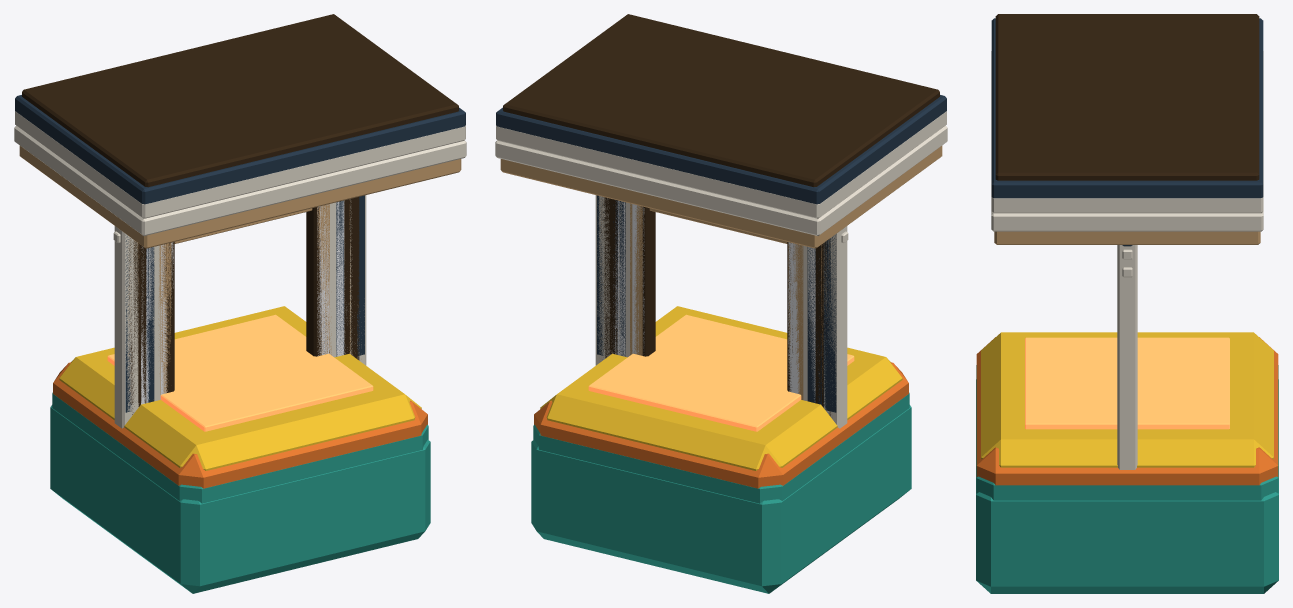
Rendered from flagship_props_028.glb.
3 renders of one model, left to right at view 1: azimuth 30°, elevation 25°; view 2: azimuth 150°, elevation 25°; view 3: azimuth 270°, elevation 25°, orthographic. The views are drawn at different scales.
Visible parts, largest first — view 1: Prop_BBIsle_Well_05, Prop_BBIsle_Well_06, Prop_BBIsle_Well_04, Prop_BBIsle_Well_01, Prop_BBIsle_Well_07, Prop_BBIsle_Well_00, Prop_BBIsle_Well_10, Prop_BBIsle_Well_03, Prop_BBIsle_Well_16, Prop_BBIsle_Well_08, Prop_BBIsle_Well_02, Prop_BBIsle_Well_14 (+3 smaller); view 2: Prop_BBIsle_Well_05, Prop_BBIsle_Well_06, Prop_BBIsle_Well_04, Prop_BBIsle_Well_01, Prop_BBIsle_Well_07, Prop_BBIsle_Well_02, Prop_BBIsle_Well_03, Prop_BBIsle_Well_10, Prop_BBIsle_Well_00, Prop_BBIsle_Well_16, Prop_BBIsle_Well_08, Prop_BBIsle_Well_14 (+2 smaller); view 3: Prop_BBIsle_Well_05, Prop_BBIsle_Well_06, Prop_BBIsle_Well_04, Prop_BBIsle_Well_01, Prop_BBIsle_Well_07.
Part boxes in pixels (bbox=[...]): Prop_BBIsle_Well_05: bbox=[22, 14, 458, 470]; Prop_BBIsle_Well_06: bbox=[14, 125, 466, 593]; Prop_BBIsle_Well_04: bbox=[15, 95, 465, 488]; Prop_BBIsle_Well_01: bbox=[15, 111, 465, 503]; Prop_BBIsle_Well_07: bbox=[19, 146, 461, 385]; Prop_BBIsle_Well_00: bbox=[133, 197, 356, 405]; Prop_BBIsle_Well_10: bbox=[162, 206, 329, 392]; Prop_BBIsle_Well_03: bbox=[161, 204, 329, 394]; Prop_BBIsle_Well_16: bbox=[148, 202, 336, 401]; Prop_BBIsle_Well_08: bbox=[141, 200, 345, 404]; Prop_BBIsle_Well_02: bbox=[158, 204, 331, 394]; Prop_BBIsle_Well_14: bbox=[146, 200, 344, 401]; Prop_BBIsle_Well_05: bbox=[503, 14, 939, 470]; Prop_BBIsle_Well_06: bbox=[495, 125, 947, 593]; Prop_BBIsle_Well_04: bbox=[496, 95, 946, 488]; Prop_BBIsle_Well_01: bbox=[496, 111, 946, 503]; Prop_BBIsle_Well_07: bbox=[500, 146, 942, 417]; Prop_BBIsle_Well_02: bbox=[630, 203, 803, 399]; Prop_BBIsle_Well_03: bbox=[632, 204, 799, 393]; Prop_BBIsle_Well_10: bbox=[639, 206, 793, 391]; Prop_BBIsle_Well_00: bbox=[605, 197, 828, 403]; Prop_BBIsle_Well_16: bbox=[619, 201, 814, 401]; Prop_BBIsle_Well_08: bbox=[613, 201, 819, 401]; Prop_BBIsle_Well_14: bbox=[613, 200, 815, 402]; Prop_BBIsle_Well_05: bbox=[981, 14, 1273, 467]; Prop_BBIsle_Well_06: bbox=[976, 51, 1278, 593]; Prop_BBIsle_Well_04: bbox=[976, 18, 1278, 485]; Prop_BBIsle_Well_01: bbox=[976, 197, 1278, 500]; Prop_BBIsle_Well_07: bbox=[994, 231, 1260, 244].
Size of the model in its own units: 2.33 by 2.89 by 1.79.
